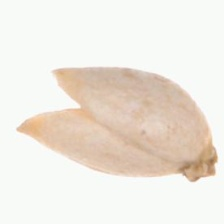L1: (15, 68, 93, 132), (176, 145, 219, 182)
L2: (16, 65, 218, 183)
